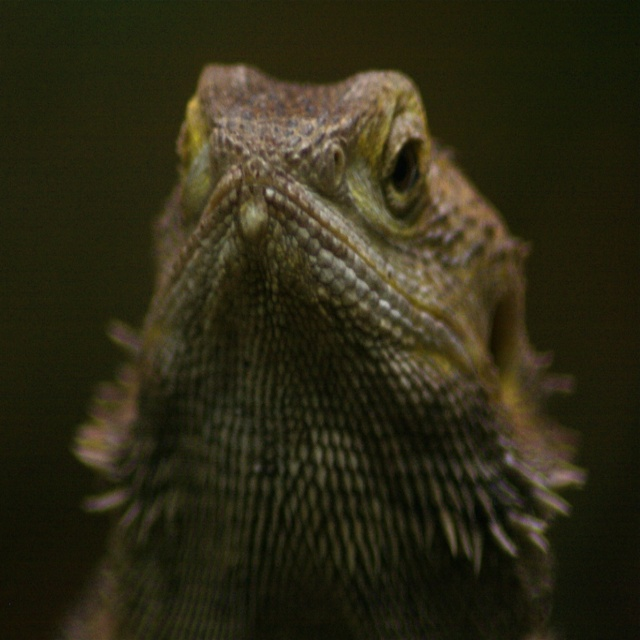Lizard: (53, 12, 600, 624)
